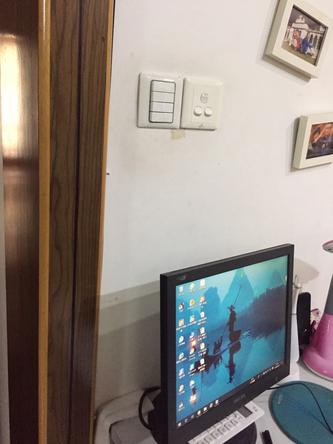switch: (150, 77, 179, 92), (146, 110, 176, 123), (147, 90, 178, 102), (148, 101, 177, 113), (198, 91, 213, 104), (203, 106, 217, 119), (193, 104, 204, 119)
